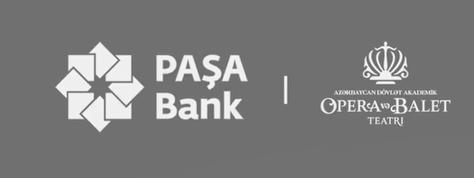Pasha Bank: (53, 39, 145, 134)
